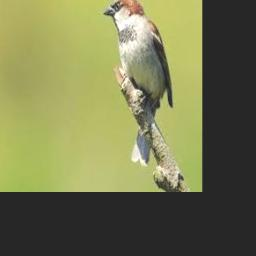Sparrow: (104, 0, 174, 166)
